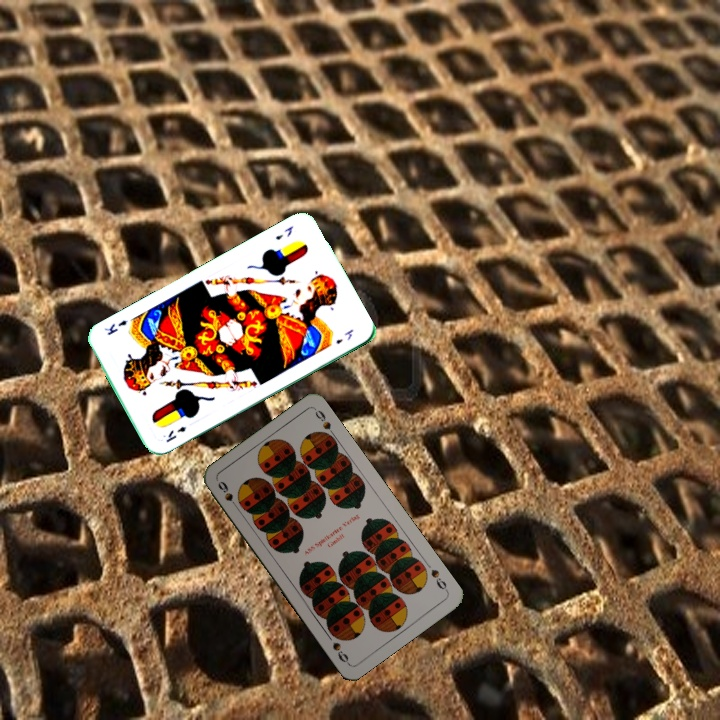EK: (162, 422, 189, 445), (271, 222, 296, 242)
S9: (214, 477, 242, 513), (427, 565, 451, 594)
